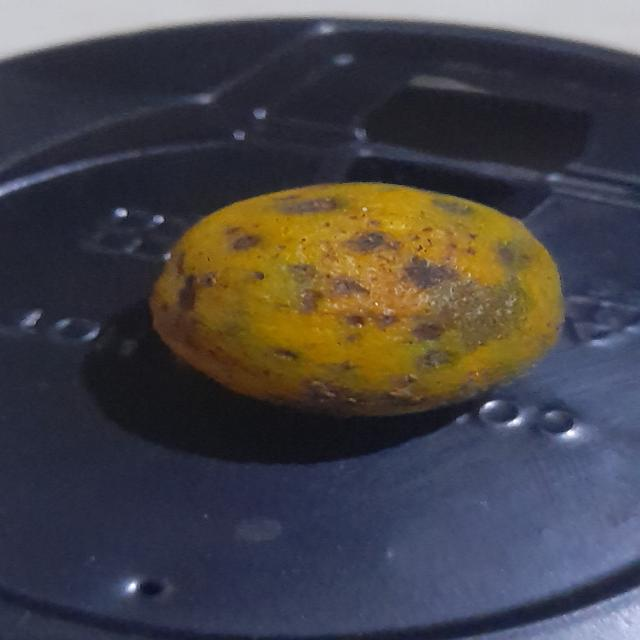black spot: (140, 178, 572, 422)
